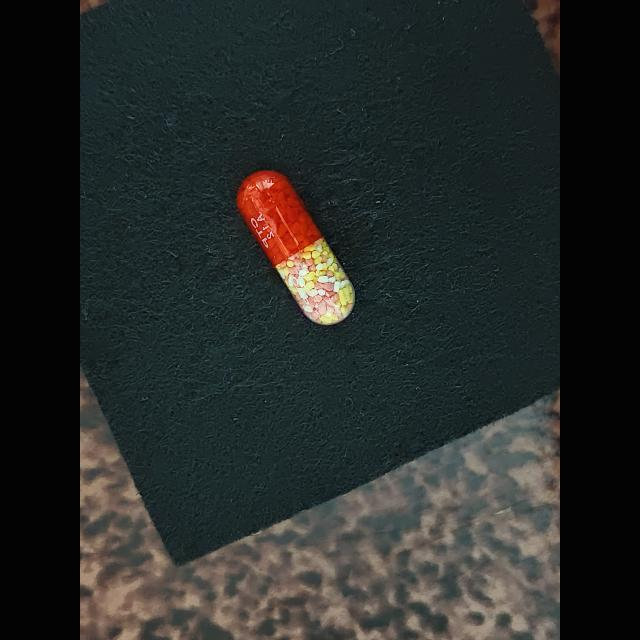Intact Capsule: (237, 170, 356, 325)
